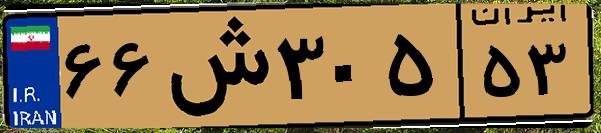0: (330, 28, 385, 110)
3: (270, 28, 330, 110), (525, 38, 570, 115)
5: (385, 28, 445, 110), (475, 38, 525, 113)
6: (57, 26, 110, 100), (110, 28, 158, 98)
ش: (158, 12, 270, 120)
